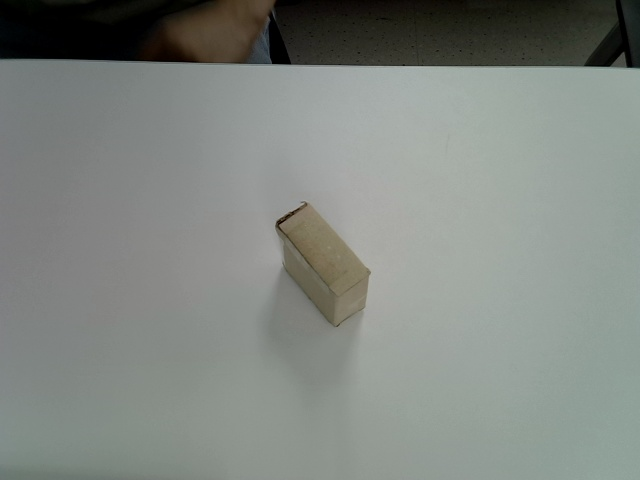normal: (275, 201, 371, 327)
